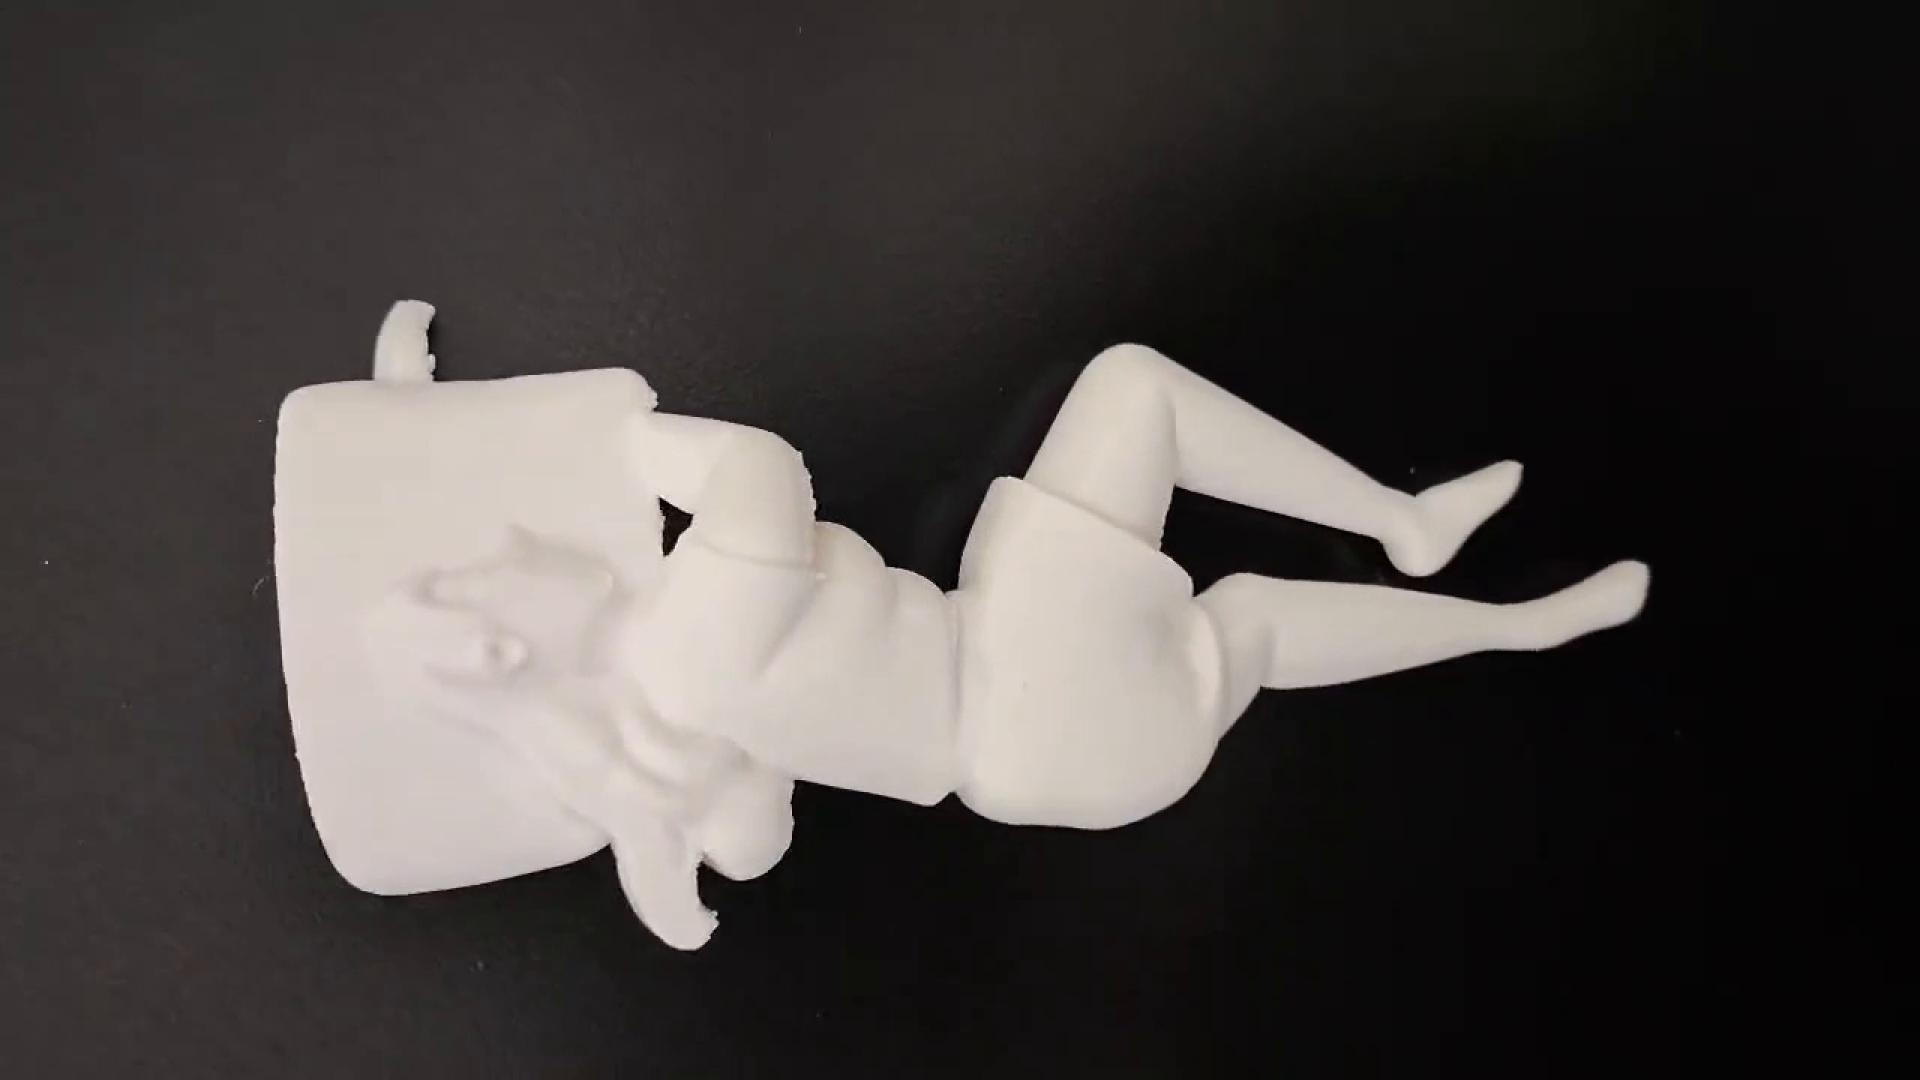Good-style: (264, 291, 1660, 955)
